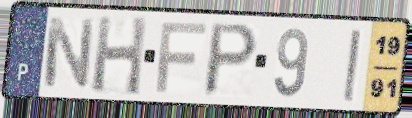9: (272, 26, 311, 101)
F: (154, 20, 209, 95)
H: (90, 14, 149, 98)
I: (341, 27, 362, 104)
N: (41, 15, 97, 91)
P: (199, 21, 261, 99)
